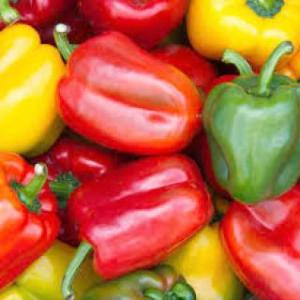bell_pepper: (62, 154, 212, 300), (54, 23, 202, 156), (202, 38, 298, 204), (0, 26, 68, 157), (0, 154, 60, 292)
